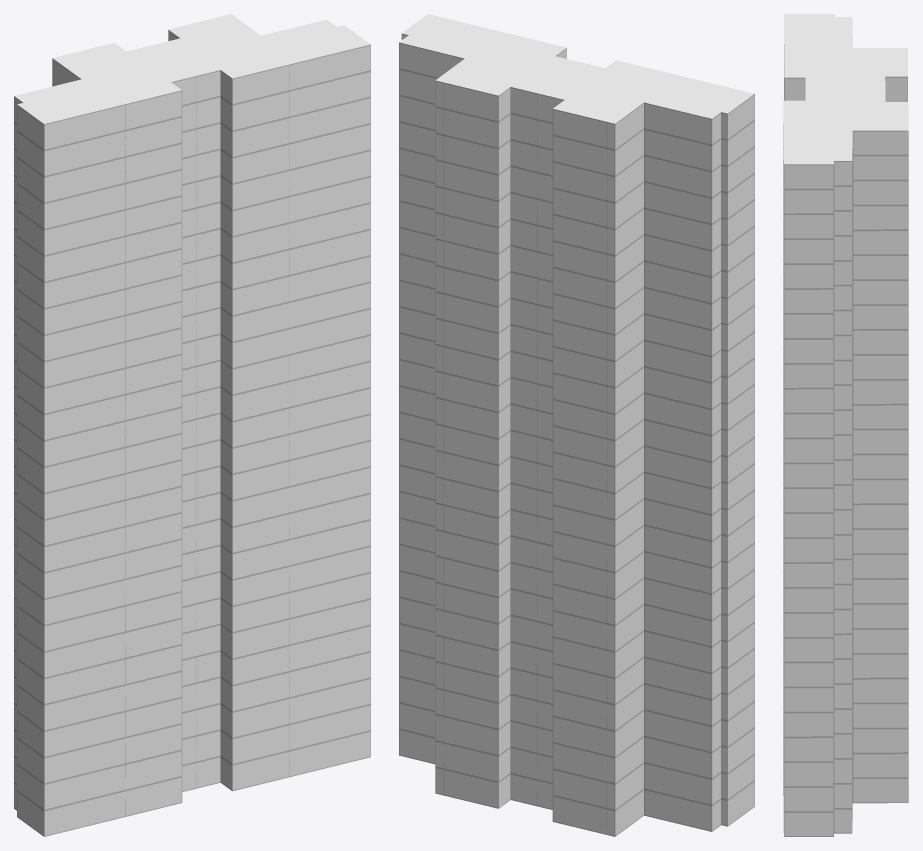
3 views of the same model, side by side, from view 1: azimuth 30°, elevation 25°; view 2: azimuth 150°, elevation 25°; view 3: azimuth 270°, elevation 25° (orthographic). The views are drawn at different scales.
Parts seen in each view (by area): view 1: Building_1, Building_3, Building_4, Building_2, Building_6, Building, Building_5; view 2: Building_1, Building_3, Building_2, Building_4, Building_6, Building; view 3: Building_4, Building_6, Building_2, Building_3.
Part boxes in pixels (x1,y1,x2,y2): Building_1: [14, 58, 125, 836]; Building_3: [168, 30, 289, 791]; Building_4: [289, 44, 370, 776]; Building_2: [126, 76, 195, 816]; Building_6: [14, 14, 370, 124]; Building: [125, 65, 289, 816]; Building_5: [125, 87, 289, 802]; Building_1: [608, 94, 754, 836]; Building_3: [444, 48, 566, 808]; Building_2: [538, 93, 607, 834]; Building_4: [399, 33, 464, 795]; Building_6: [399, 14, 754, 123]; Building: [443, 83, 607, 828]; Building_4: [783, 130, 908, 836]; Building_6: [783, 14, 908, 164]; Building_2: [784, 76, 907, 101]; Building_3: [783, 124, 783, 795].
Size of the model in its own units: 38.86 by 81.01 by 13.69.
Materials: 1 (1 with a texture image).
